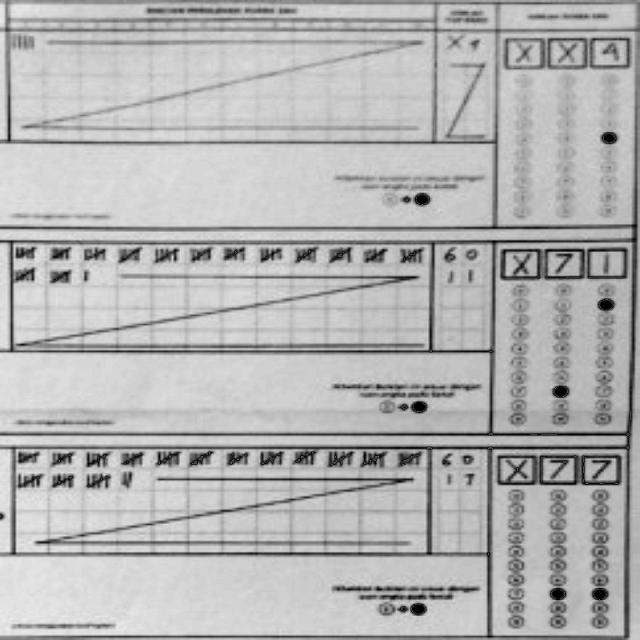Suara: (494, 449, 622, 488), (496, 243, 627, 280), (501, 34, 631, 68)
